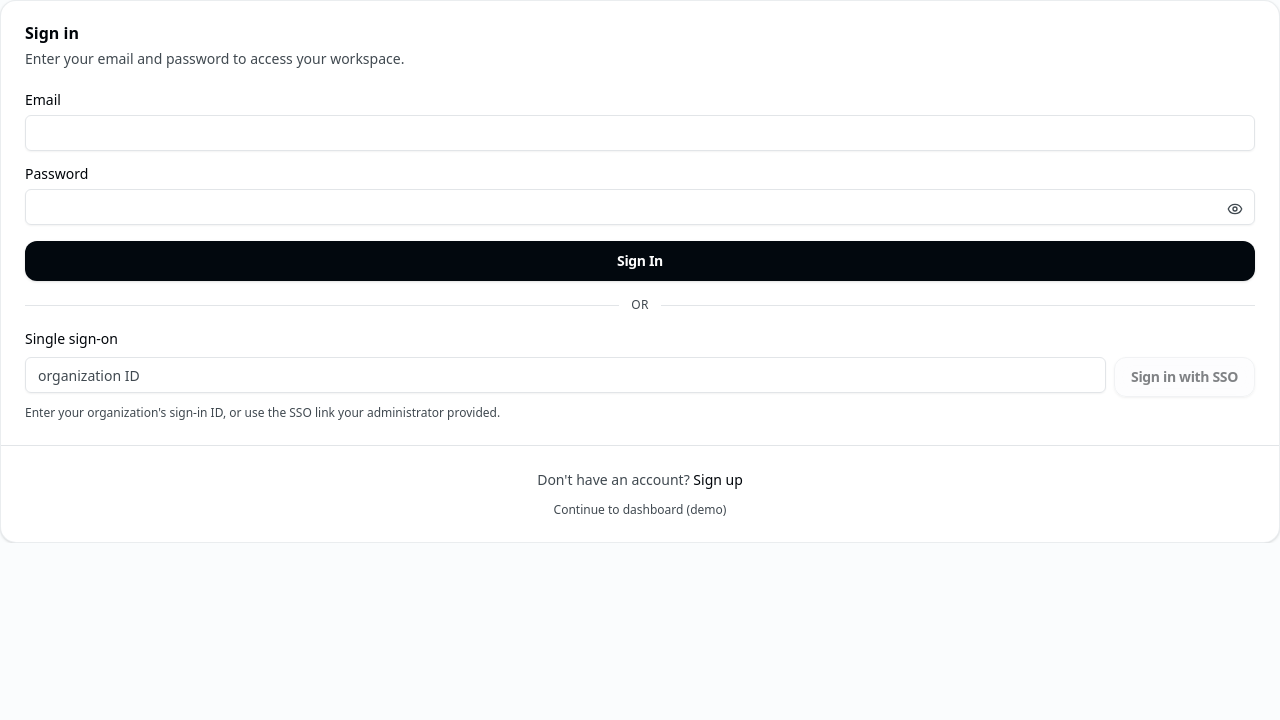
Test: landing page auth forms › shows a credential-focused message when sign-in fails
The image size is (1280, 720).
Type "chemist@example.com" into the field labelled "Email" at [640, 133], box [25,115,1255,151]
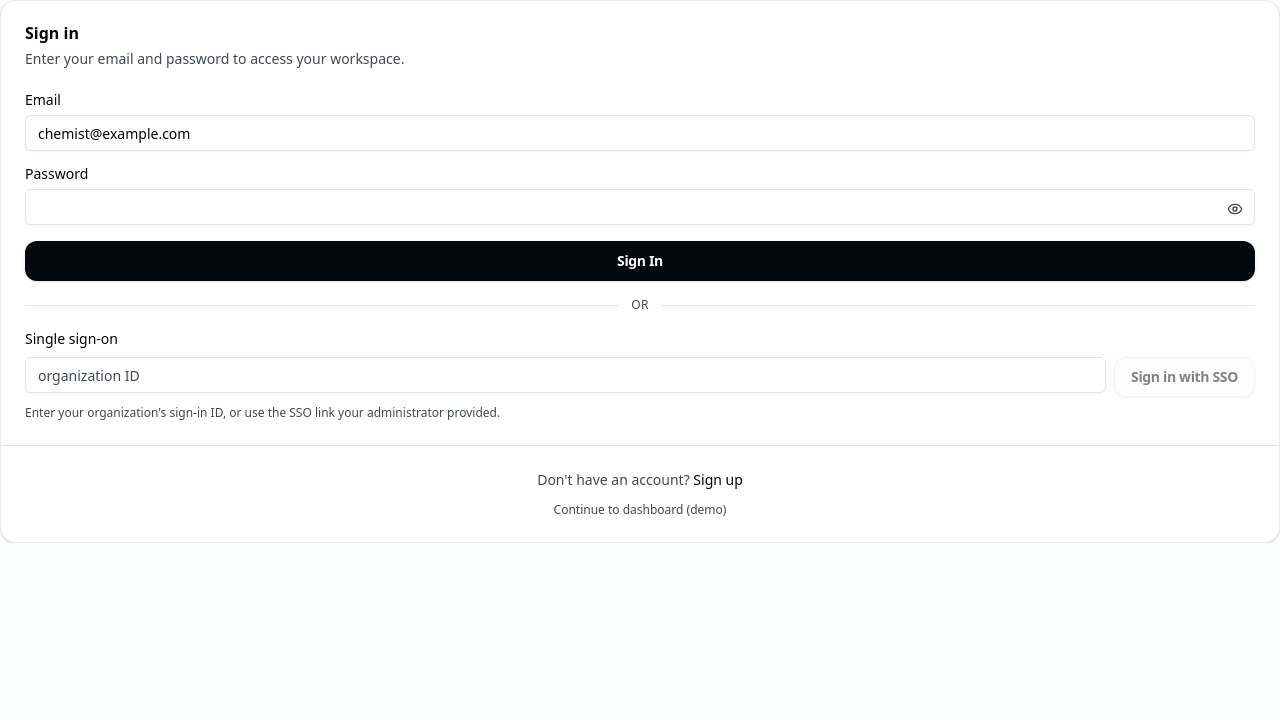
Type "WrongPassword123!" into the password field labelled "Password" at [640, 207], box [25,189,1255,225]
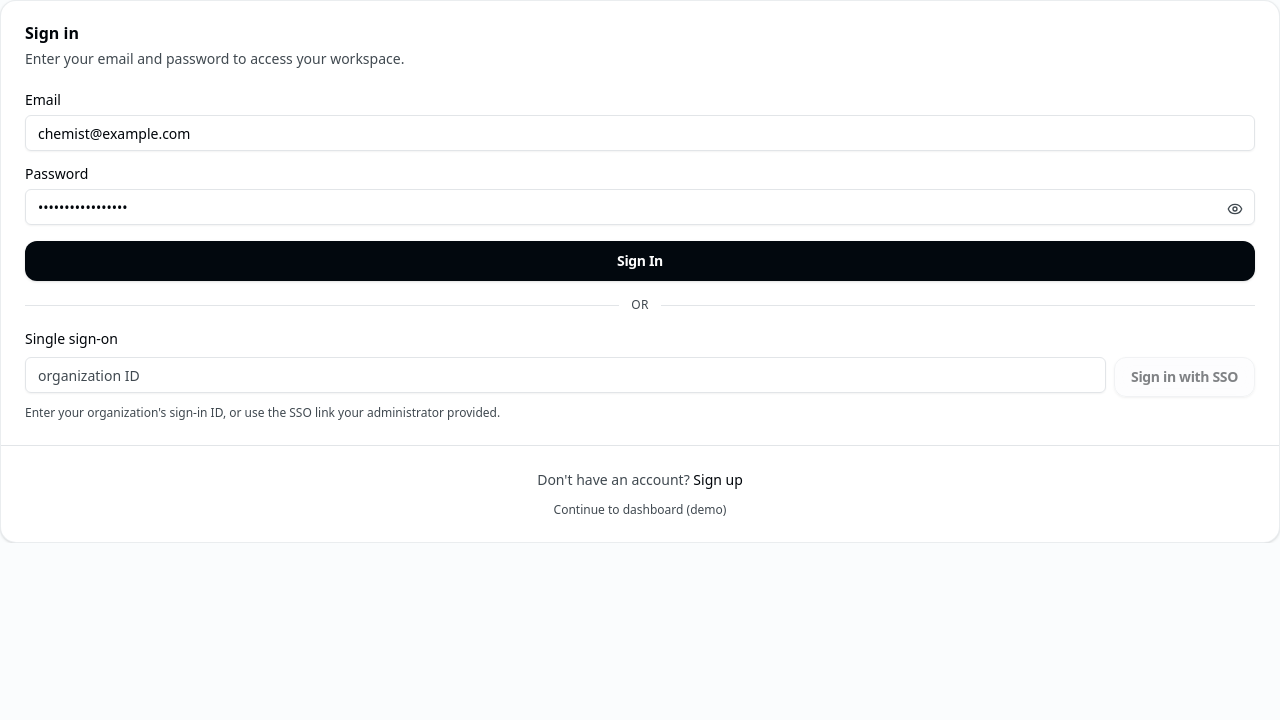
Click the button "Sign In" at [640, 261], box [25,241,1255,281]
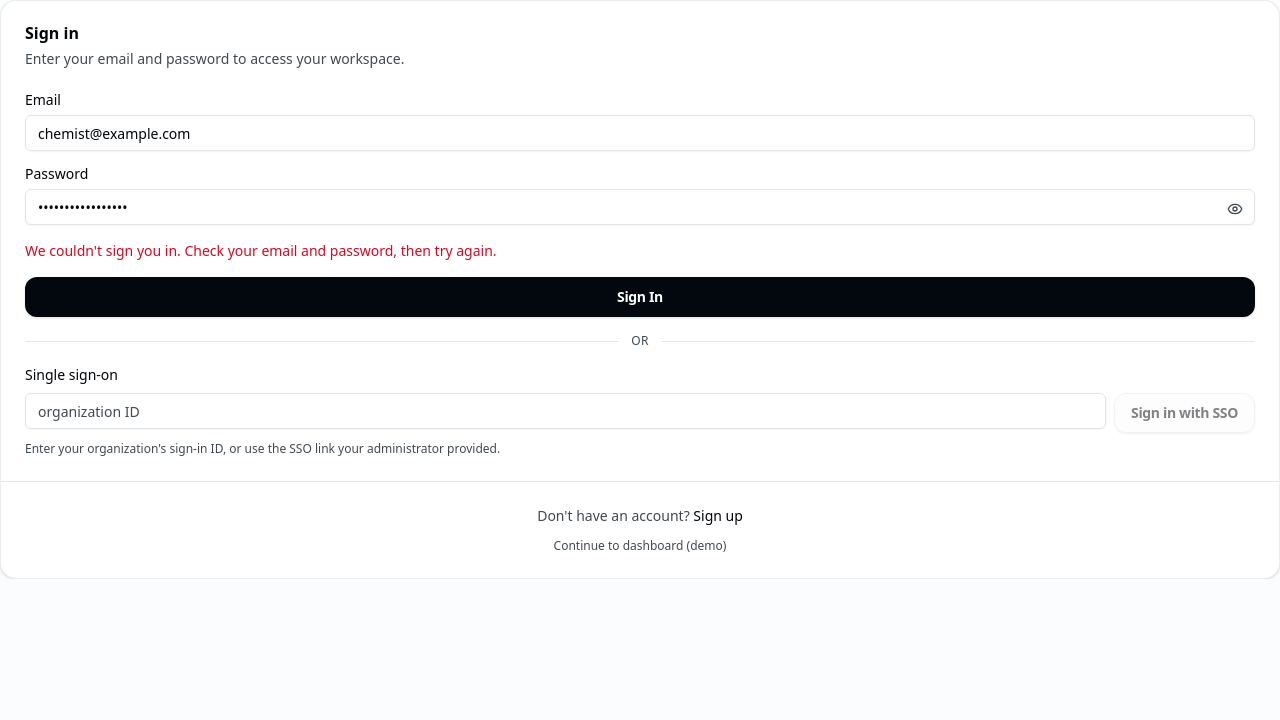
expect the message reads "We couldn't sign you in. Check your email and password, then try again.": met, box [25,241,496,260]
